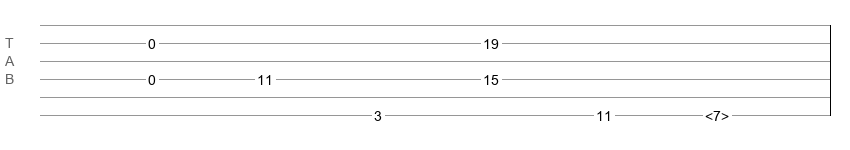0: (148, 36, 156, 46), (148, 72, 156, 82)
11: (257, 72, 273, 82), (596, 108, 612, 118)
15: (483, 72, 499, 82)
19: (483, 36, 499, 46)
3: (374, 108, 382, 118)
harmonic: (705, 108, 729, 118)
